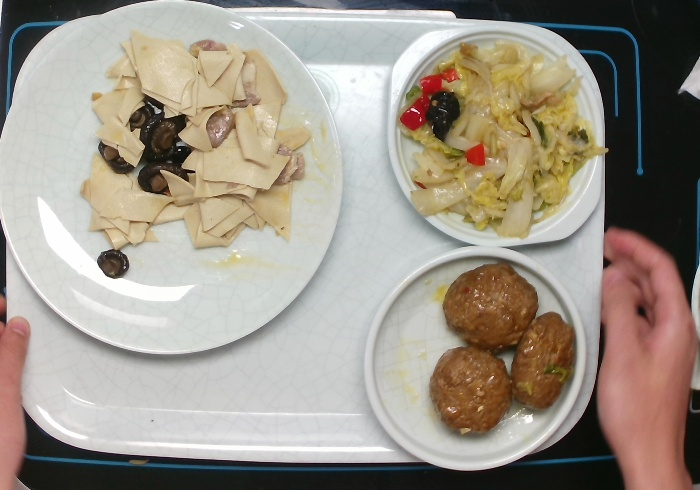JYsf-Da_Yuan_Pan: (1, 1, 352, 355)
JYsf-Shuang_Er_Pan: (377, 22, 608, 251)
JYsf-Xiao_Yuan_Pan: (359, 246, 589, 470)
